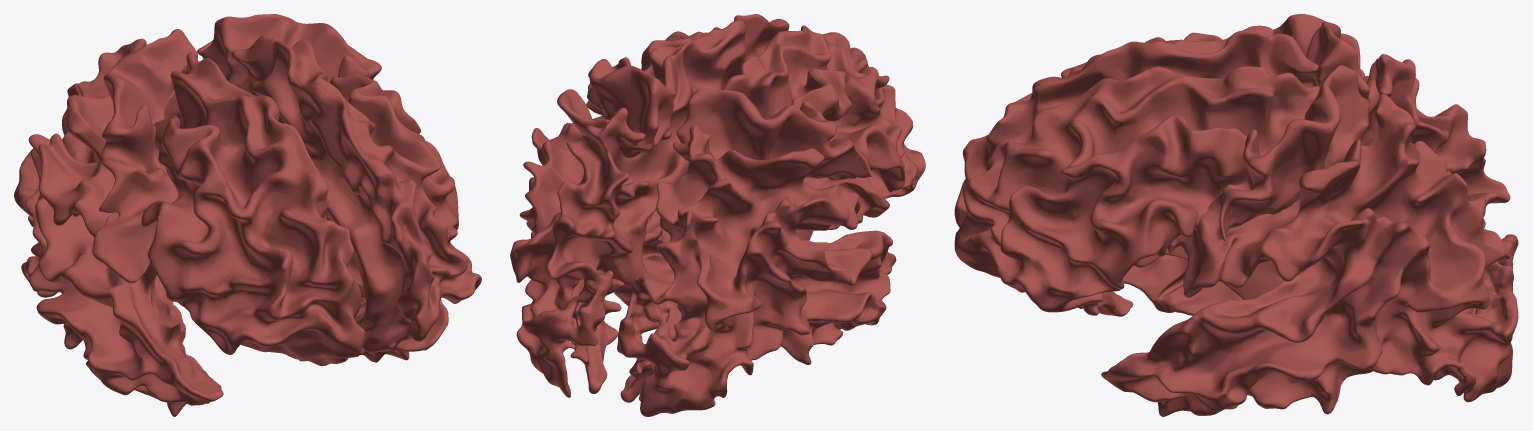
The model's file is FMA61822.glb.
The picture shows the model from 3 angles, left to right: view 1: azimuth 30°, elevation 25°; view 2: azimuth 150°, elevation 25°; view 3: azimuth 270°, elevation 25°; orthographic projection. The views are drawn at different scales.
Parts seen in each view (by area): view 1: FMA61822; view 2: FMA61822; view 3: FMA61822.
Part boxes in pixels (<box>): FMA61822: <box>14,14,481,416</box>; FMA61822: <box>510,14,925,416</box>; FMA61822: <box>954,14,1518,416</box>.
Size of the model in its own units: 0.1192 by 0.0955 by 0.1542.
